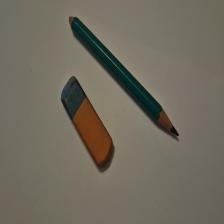eraser: (62, 76, 114, 168)
pencil: (70, 17, 180, 137)
